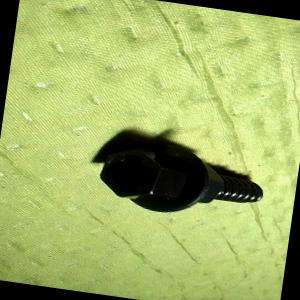parafuso: (97, 133, 270, 225)
